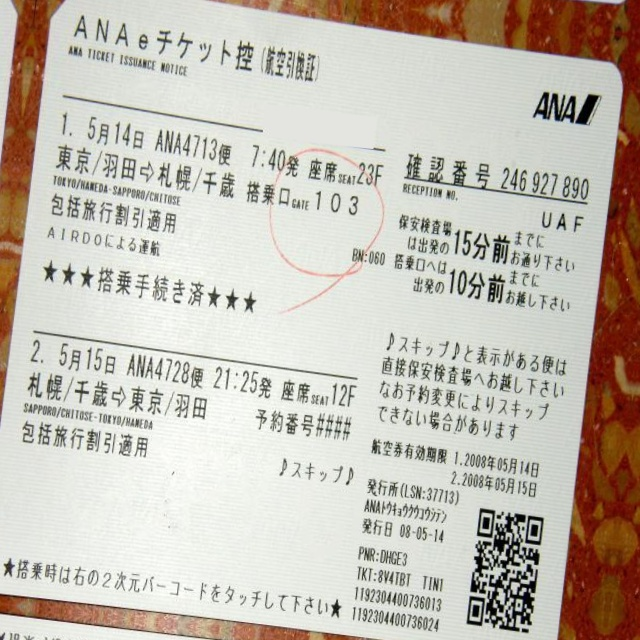qr-code: (466, 508, 545, 633)
